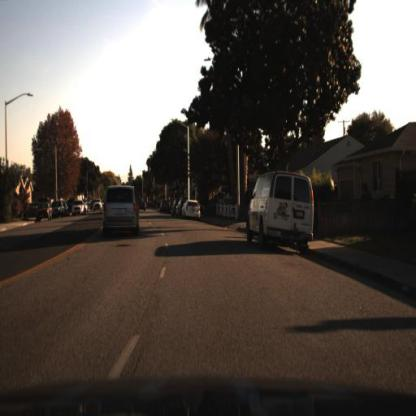car: (247, 171, 317, 252), (98, 183, 140, 240), (182, 199, 200, 223), (54, 197, 66, 221), (38, 203, 53, 221), (71, 199, 85, 218), (52, 200, 66, 218), (73, 201, 87, 217), (92, 195, 104, 213), (174, 196, 182, 221), (169, 196, 177, 220)
